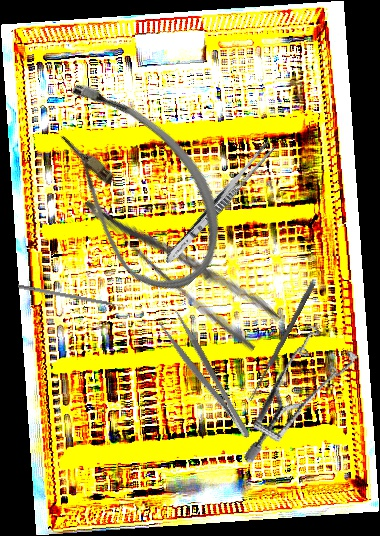Cannula: (10, 60, 254, 311)
Dressing Forceps: (80, 170, 283, 355), (161, 137, 278, 268), (157, 309, 254, 447)
Hook Surgical: (17, 284, 129, 311)
Speculum: (208, 312, 380, 465)
Surgical Spoon: (247, 281, 316, 403)
